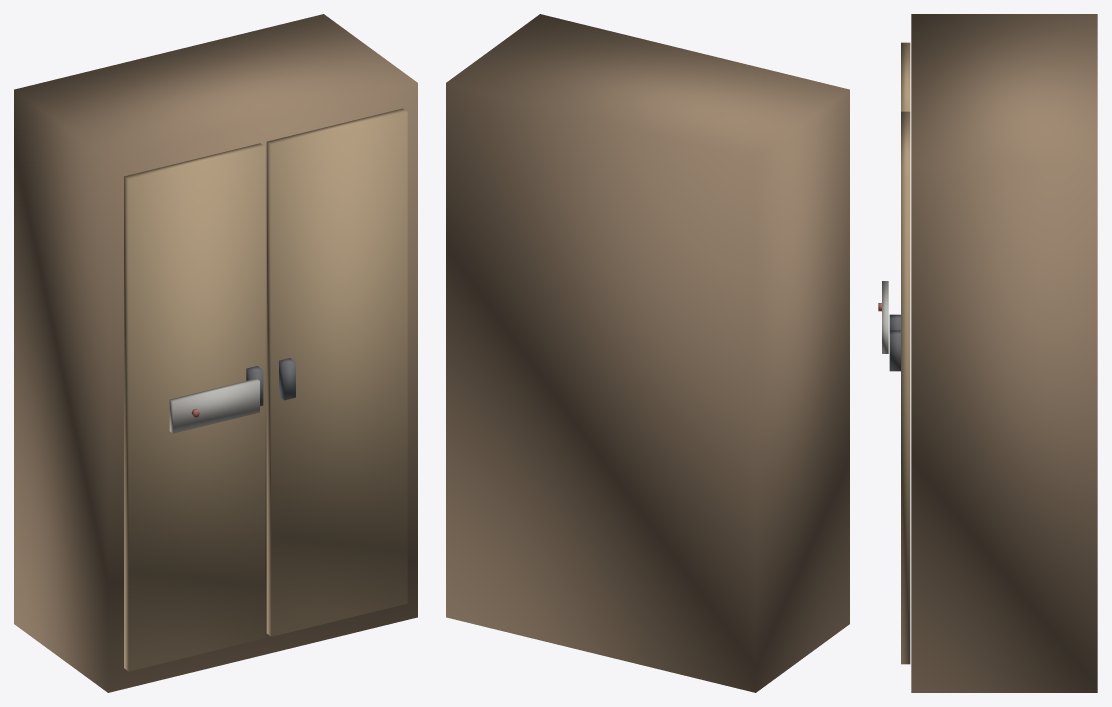
The model's file is case_file_cabinet__tall.glb.
The picture shows the model from 3 angles, left to right: view 1: azimuth 30°, elevation 25°; view 2: azimuth 150°, elevation 25°; view 3: azimuth 270°, elevation 25°; orthographic projection.
Visible parts, largest first — view 1: world; view 2: world; view 3: world.
Boxes of the visible parts, x1,y1,x2,y2 form: world: [14, 14, 417, 692]; world: [446, 14, 849, 692]; world: [878, 14, 1097, 692].
Bounding box in the file's own units: 0.95 × 1.57 × 0.5885.
